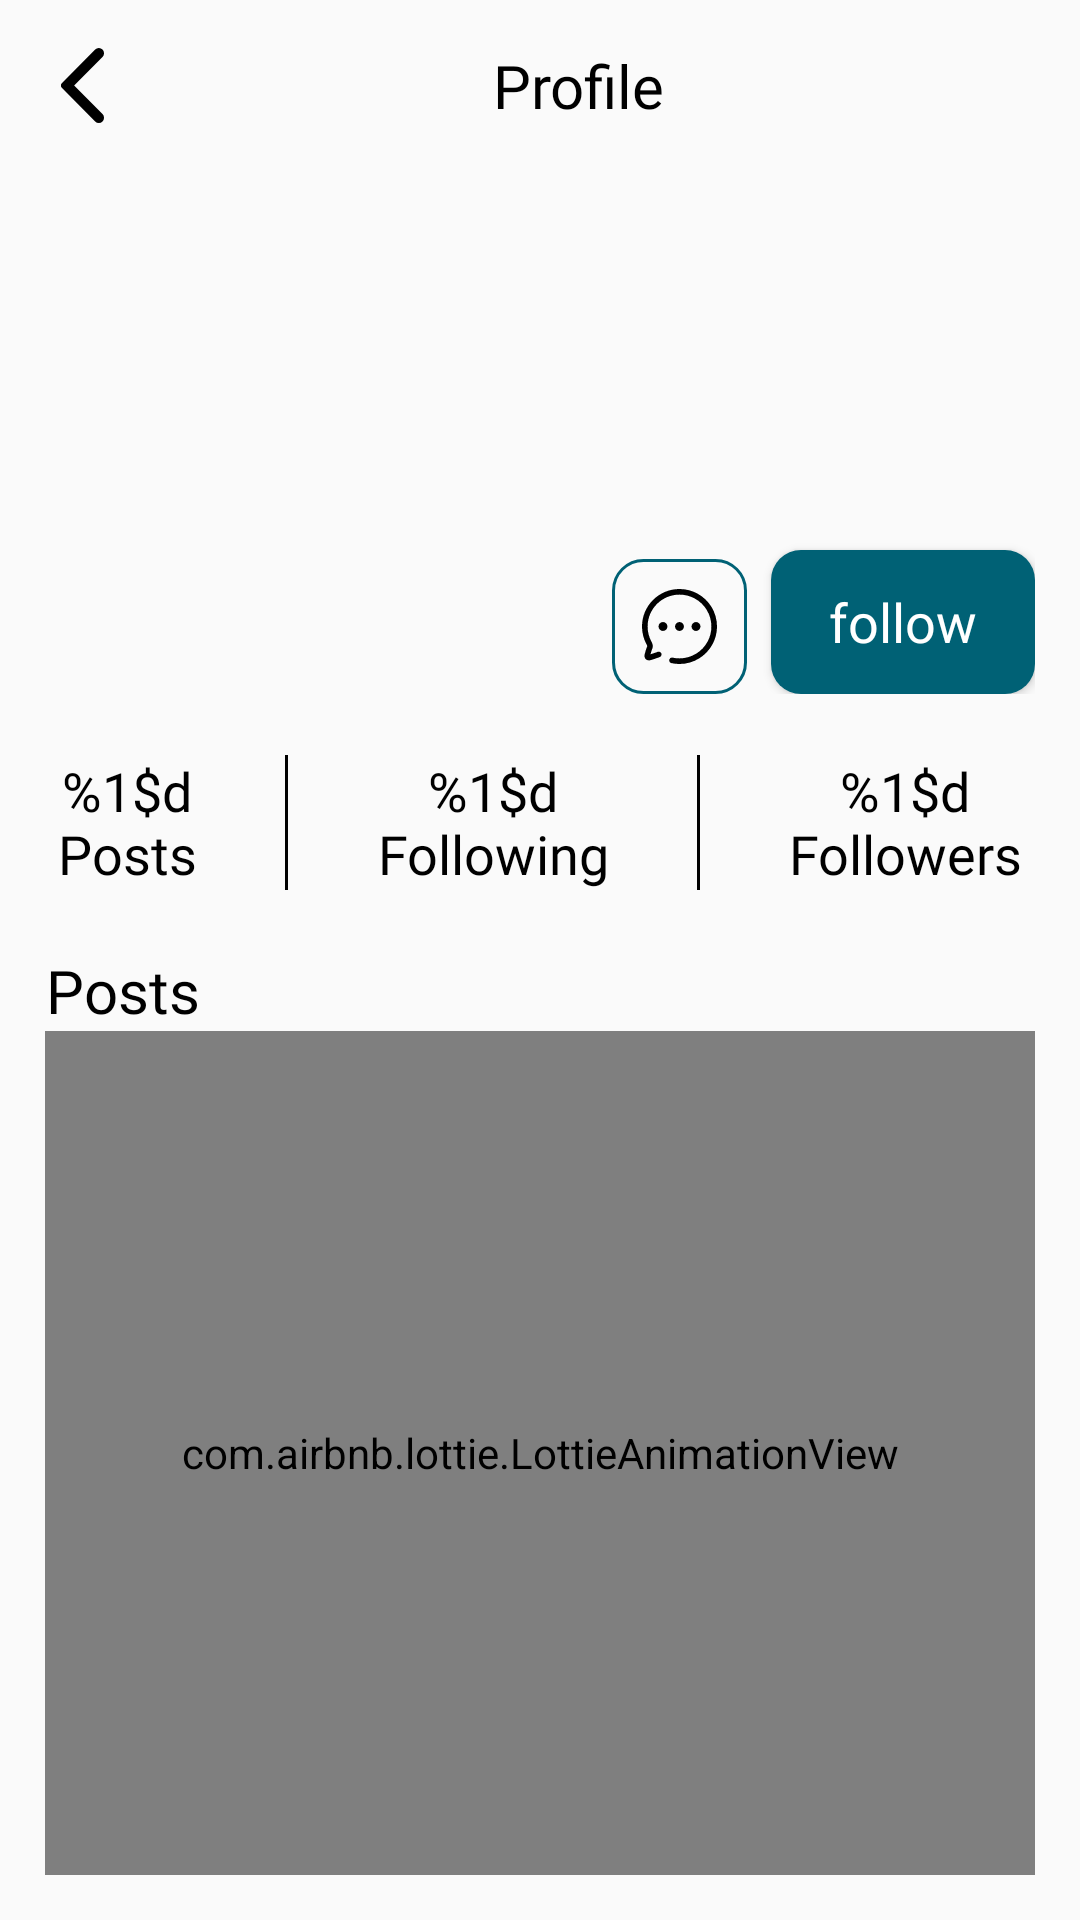

Named icons in this screenshot (1080 x 1920) and their bounding boxes, (x1, y1, x2, y2):
back: (61, 48, 104, 123)
chat: (612, 559, 747, 694)
